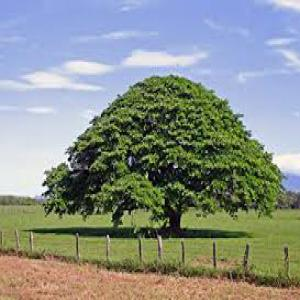Tree: (39, 70, 284, 243)
